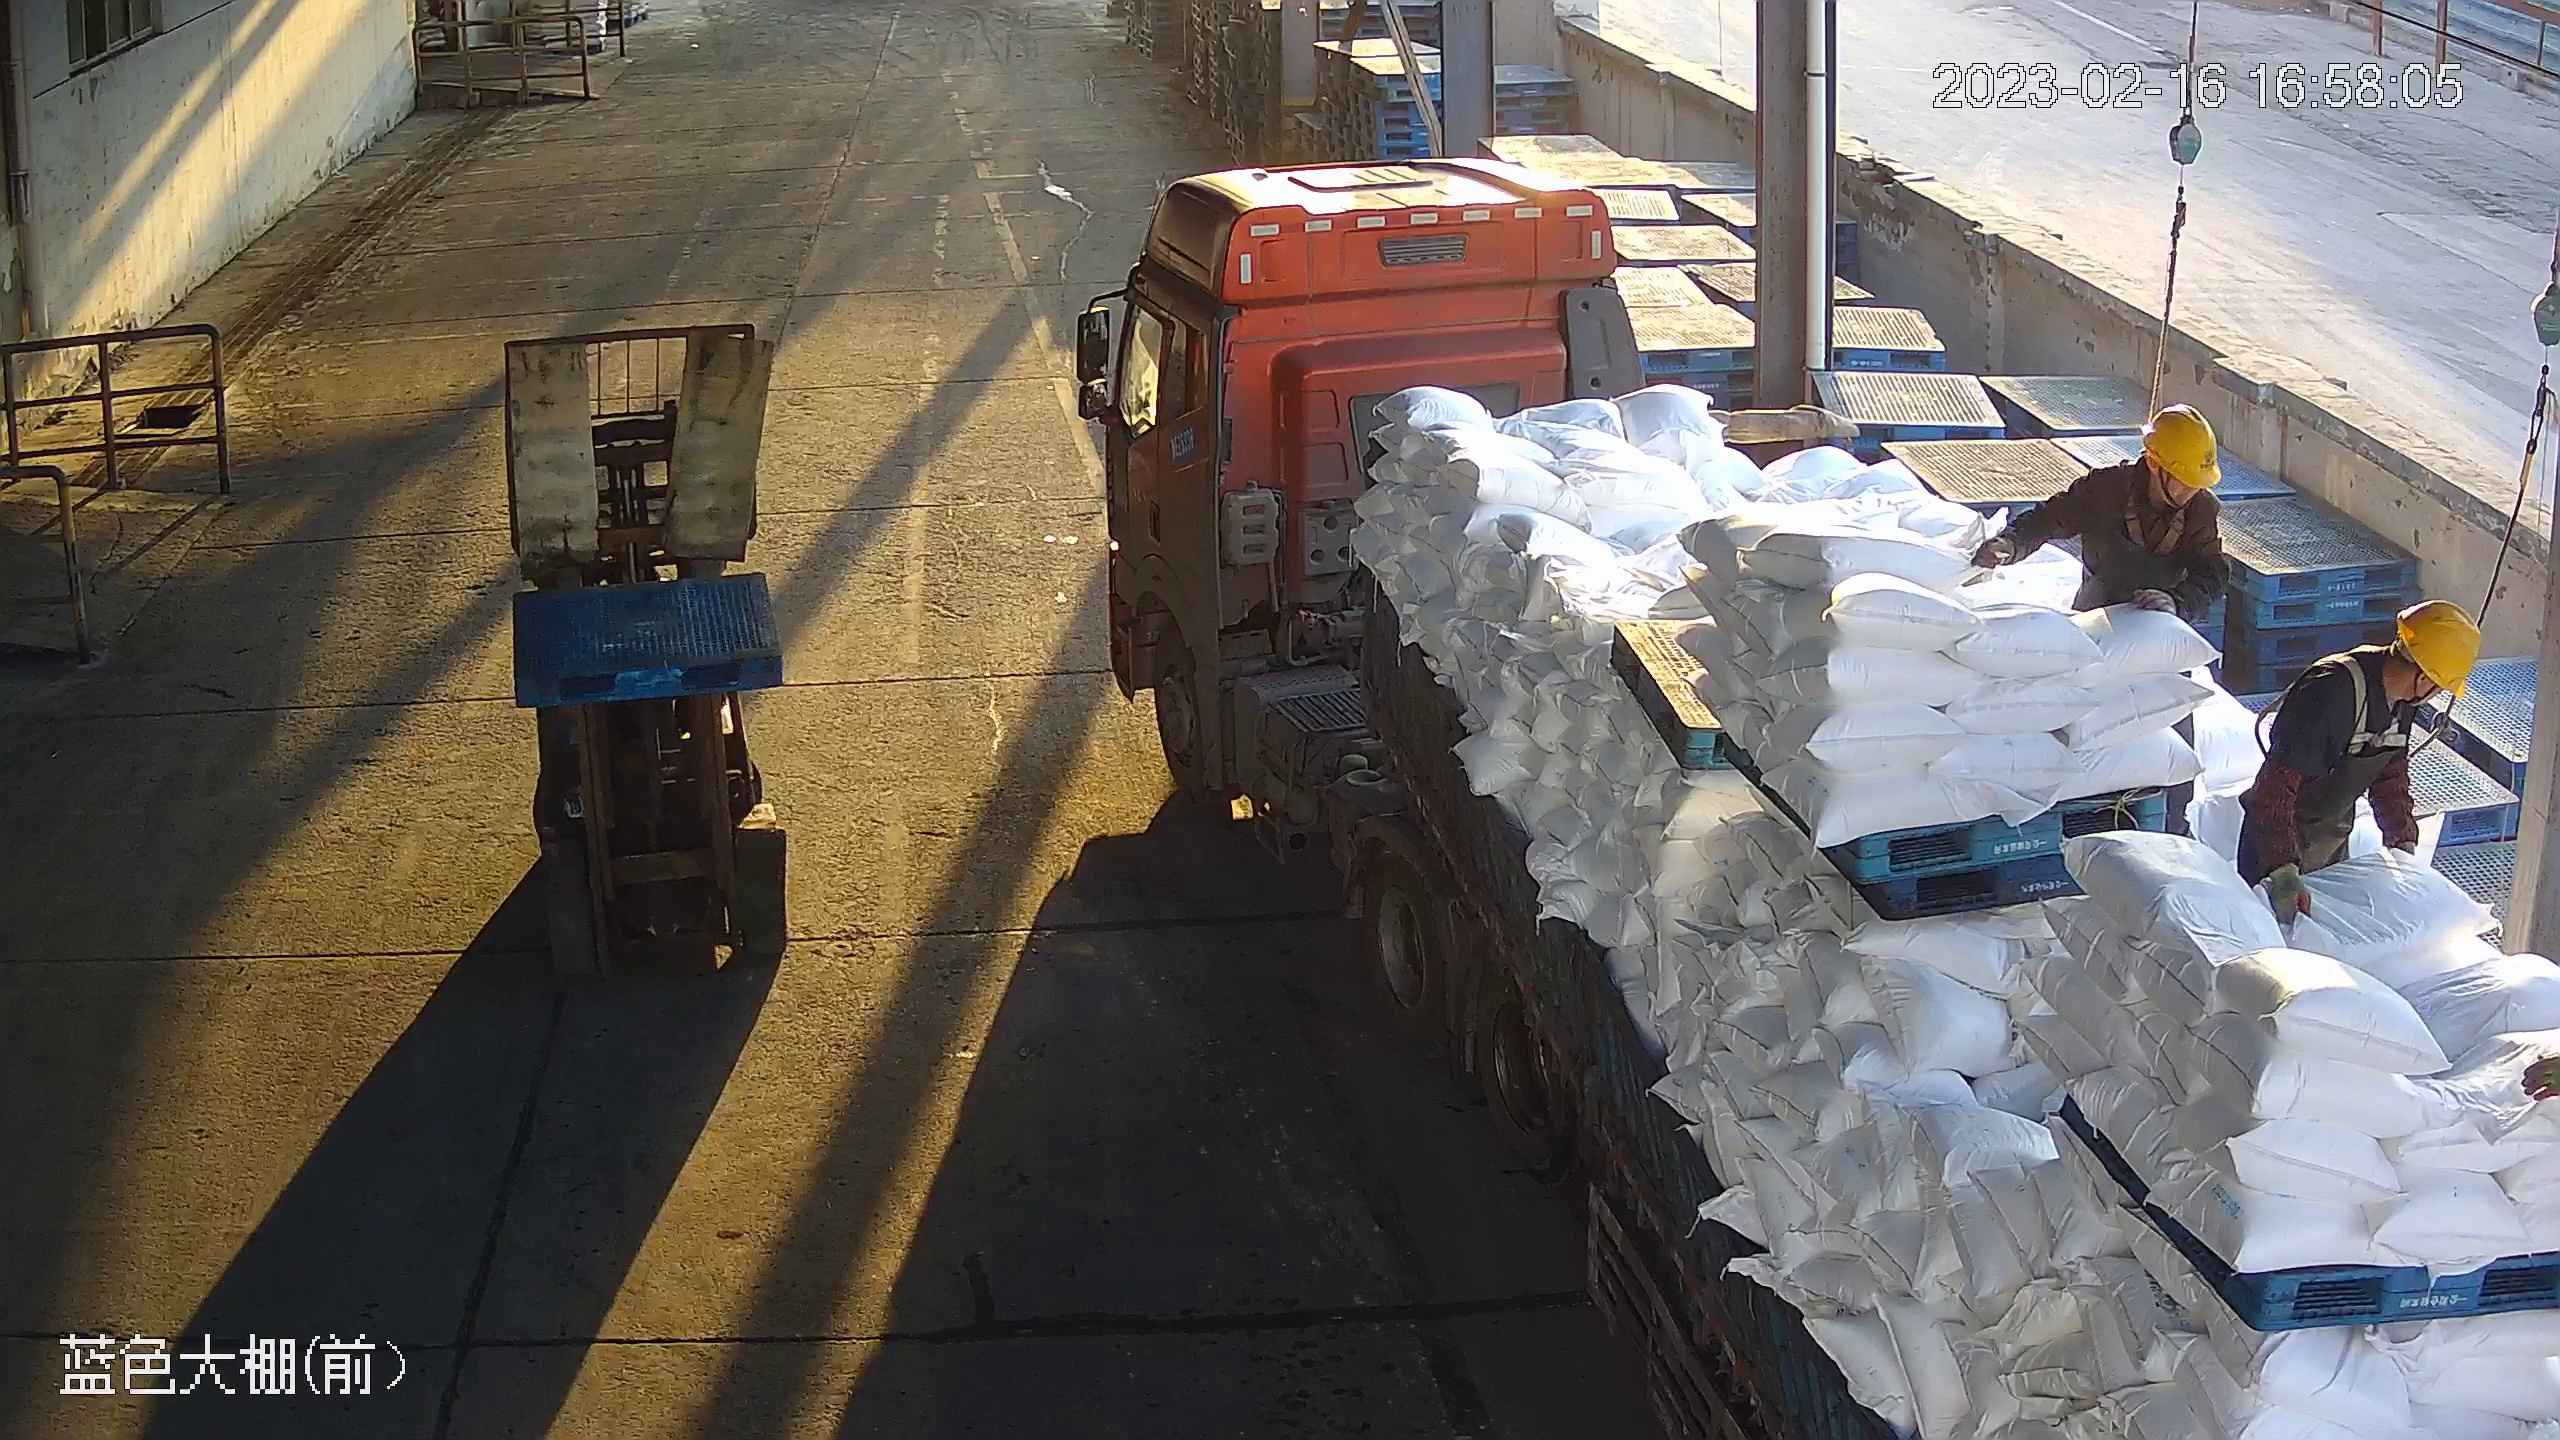belt: (2309, 658, 2402, 758), (2121, 497, 2188, 553)
head: (2314, 597, 2486, 739), (2095, 411, 2230, 550)
helmet: (2388, 599, 2486, 706), (2135, 399, 2227, 492)
people: (1976, 406, 2230, 858), (2251, 595, 2486, 932)
truck: (1069, 144, 2560, 1440)
